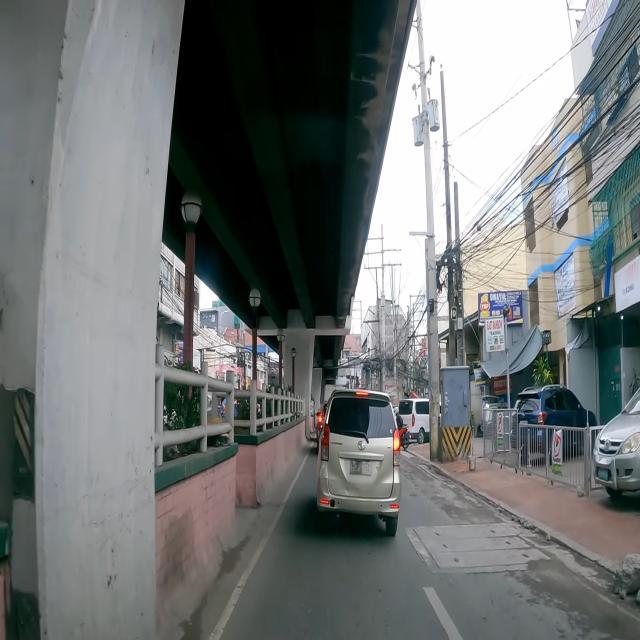car: (316, 389, 401, 536), (510, 384, 598, 460), (593, 389, 640, 499), (398, 398, 430, 444)
motorcycle: (394, 406, 409, 448)
truck: (323, 384, 346, 406)
